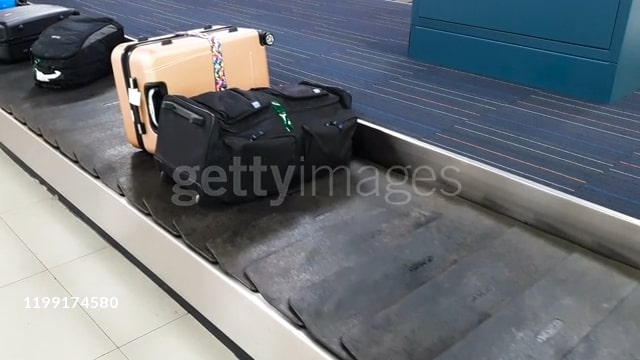baggage: (107, 20, 282, 155), (158, 81, 366, 186), (33, 18, 121, 90), (1, 5, 78, 57)
